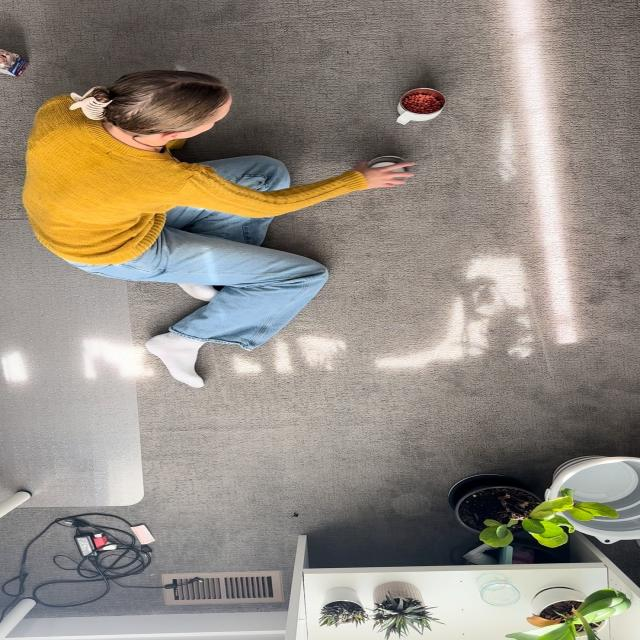IBC: (396, 88, 445, 124)
